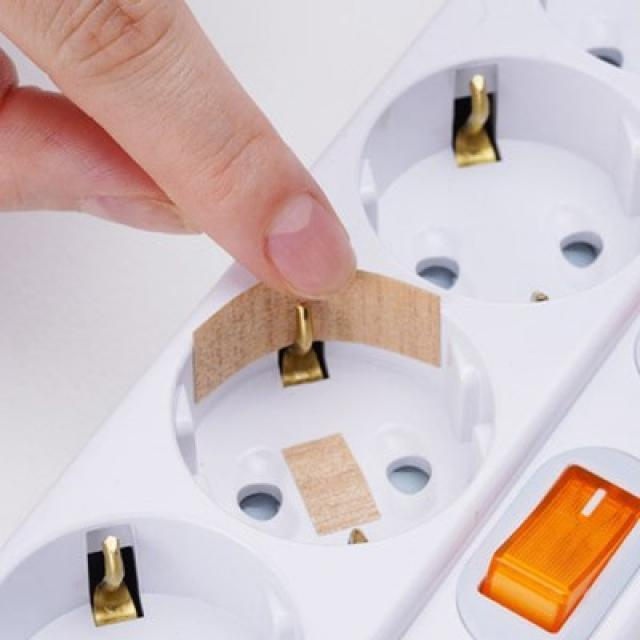typeb: (272, 0, 639, 365)
